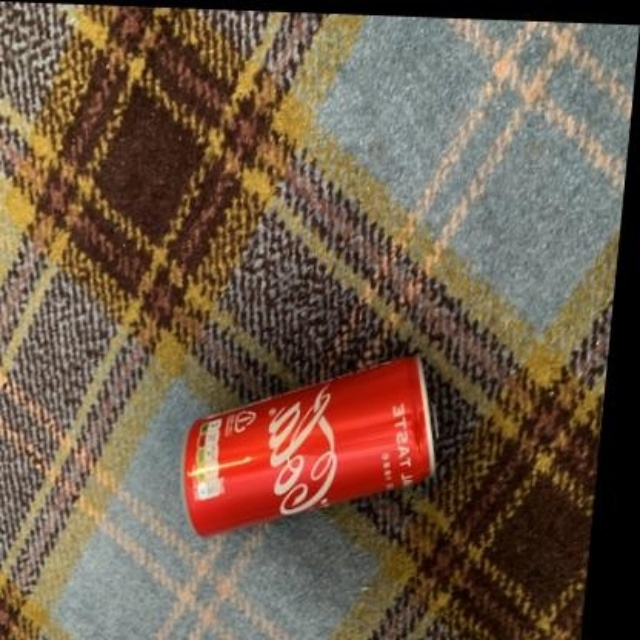trash: (183, 357, 432, 534)
